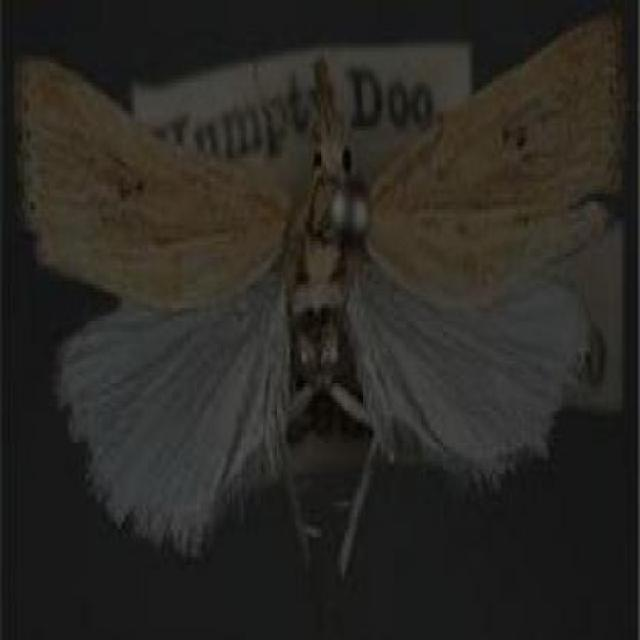stem-borer: (14, 7, 625, 598)
